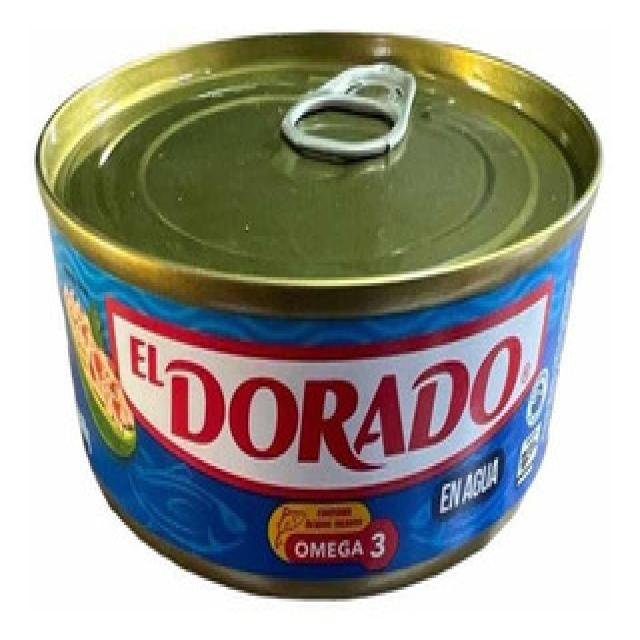Lata: (35, 33, 602, 602)
